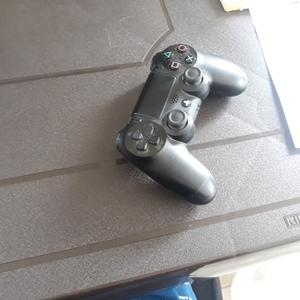controller: (116, 44, 248, 205)
